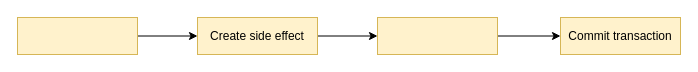
Image size: 698x72. Some labels were removed from this diagram. Here are the shapes that lost their labels. From the top down, the box of each, then its label:
(16, 16, 138, 54): OrderService.update
(376, 16, 498, 54): Execute side effect
